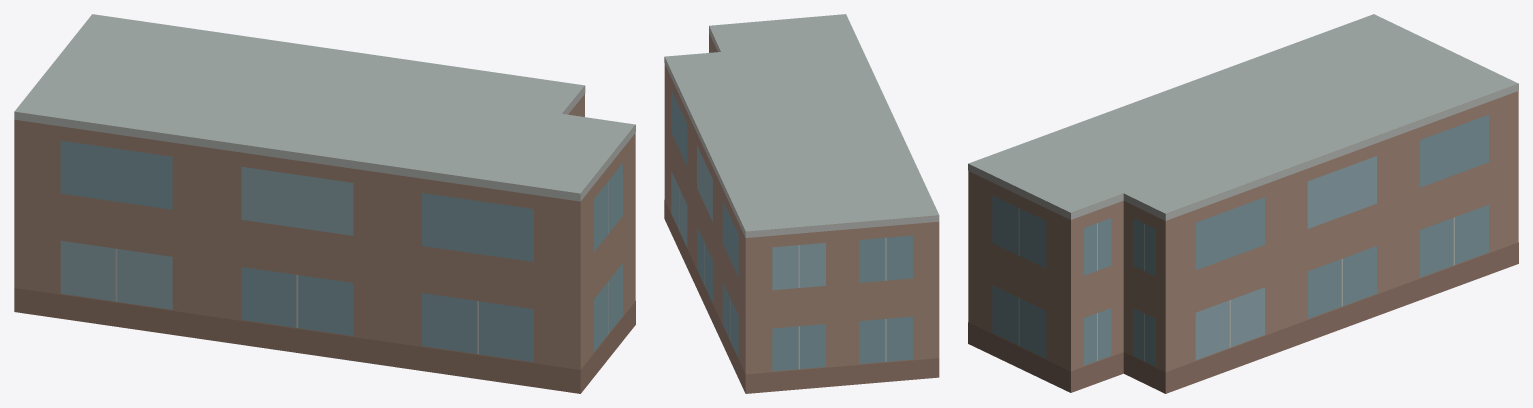
File: survey-upis-32773231.glb
3 renders of one model, left to right at view 1: azimuth 30°, elevation 25°; view 2: azimuth 150°, elevation 25°; view 3: azimuth 270°, elevation 25°, orthographic. The views are drawn at different scales.
Parts seen in each view (by area): view 1: survey-upis-32773231.tmp; view 2: survey-upis-32773231.tmp; view 3: survey-upis-32773231.tmp.
Boxes of the visible parts, x1,y1,x2,y2 form: survey-upis-32773231.tmp: (14,14,635,393); survey-upis-32773231.tmp: (664,14,939,393); survey-upis-32773231.tmp: (968,14,1518,393).
Size of the model in its own units: 14.51 by 6.1 by 16.91.
